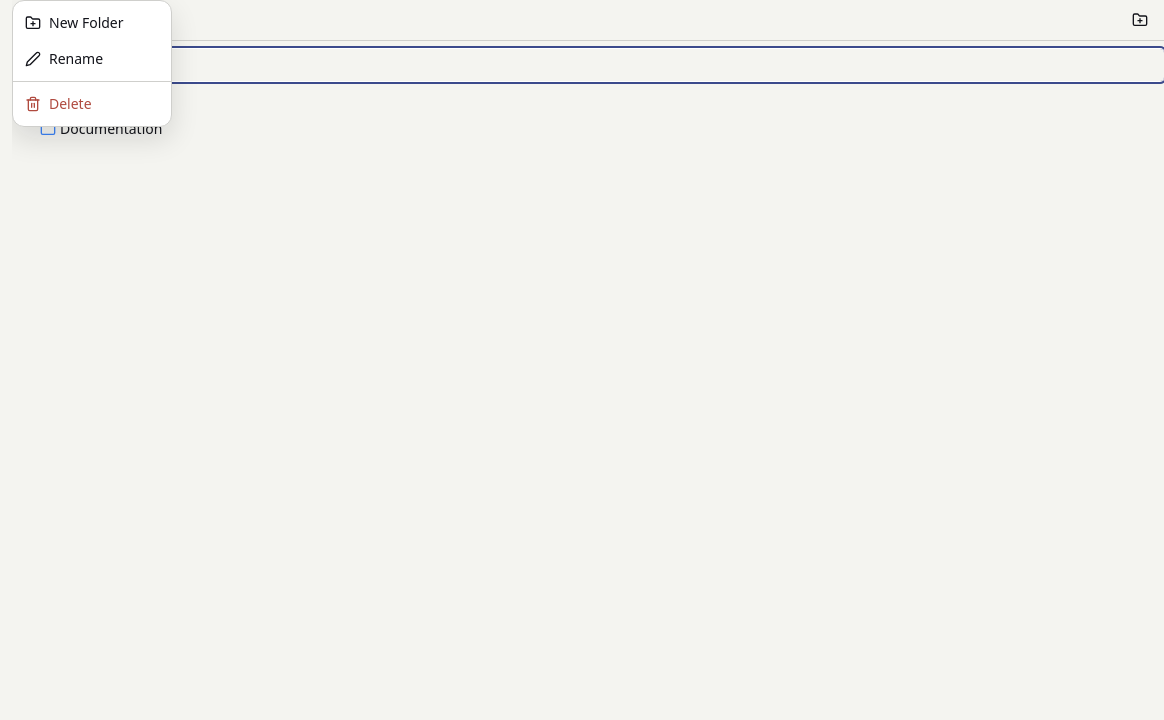
Test: FolderTree › closes context menu when clicking outside
Expected: the button "New Folder" is shown, [13,5,171,41]
Click the element that starts with "Folders" at [588, 360], box [12,0,1163,719]
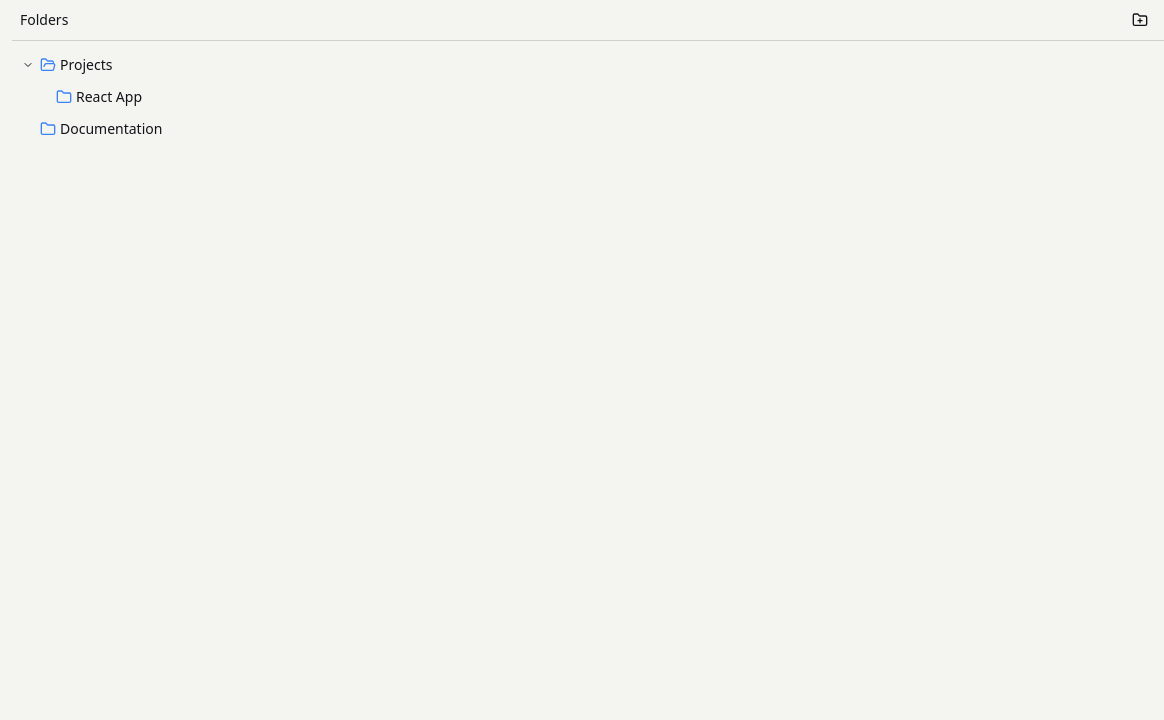
Now the button "New Folder" is gone
